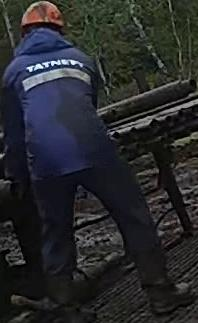helmet: (20, 0, 64, 28)
vest: (1, 29, 111, 184)
